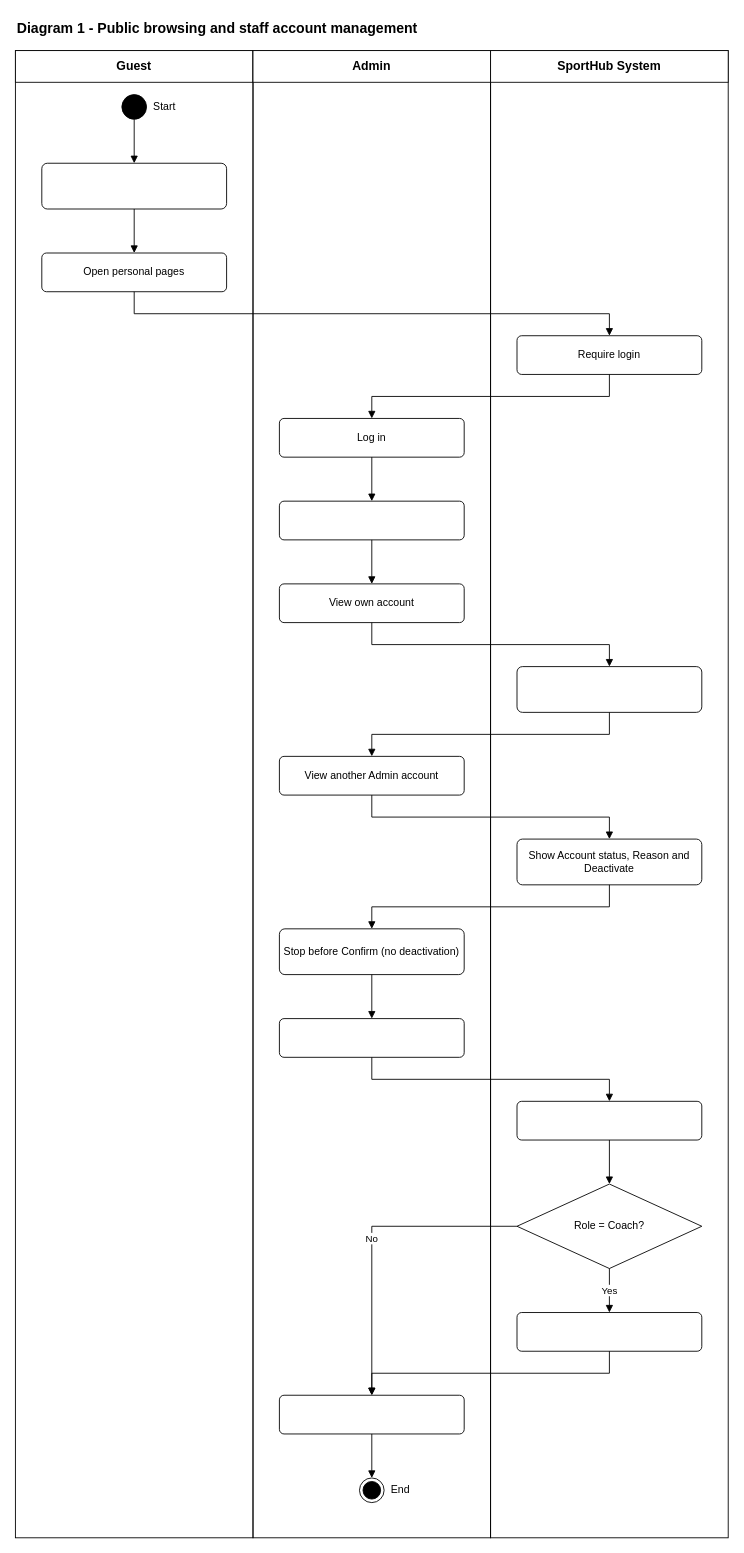
The diagram is 744 pixels wide and 1553 high, and some of its shapes have lost their labels. Each missing label, with the centre of its shape:
"Close form without saving" goes at point (371, 1414).
"Open Account management" goes at point (371, 520).
"Open Create staff account" goes at point (371, 1037).
"Require specialty selection" goes at point (609, 1331).
"Show form: email, name, role" goes at point (609, 1120).
"Show role and status; hide Deactivate" goes at point (609, 689).
"View public Gym and Courses information" goes at point (134, 185).
